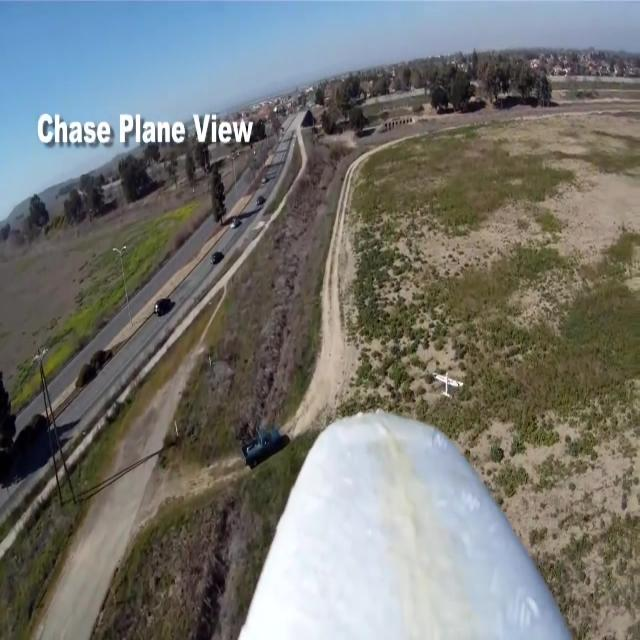iha: (431, 370, 464, 399)
